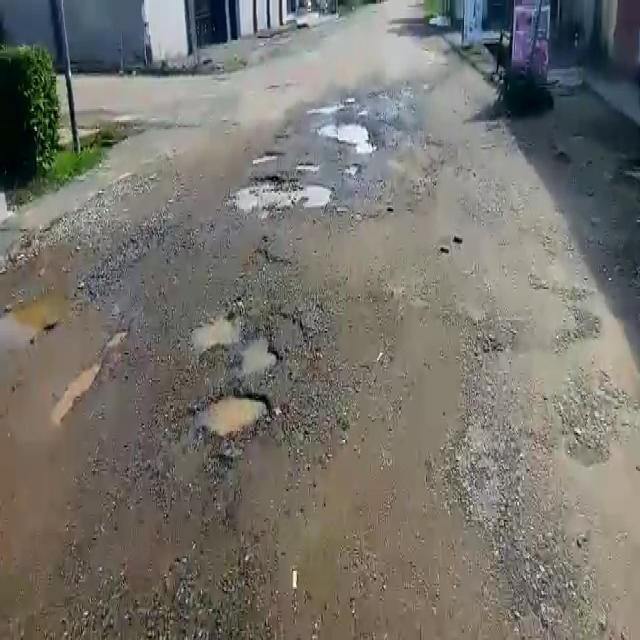Pothole: (191, 304, 292, 382), (225, 170, 330, 211), (201, 388, 271, 438), (324, 119, 381, 151), (310, 100, 350, 117), (250, 150, 282, 162)
